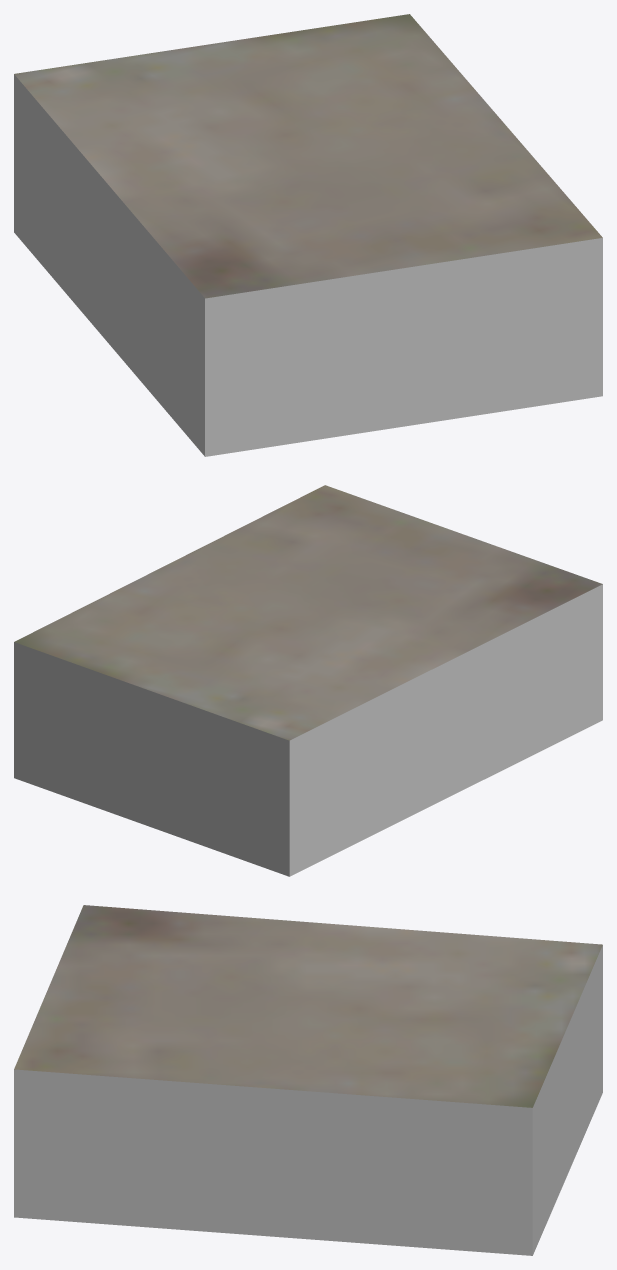
Rendered from DEBW_0010007TxhP.gltf.
3 views of the same model, one above another, from view 1: azimuth 30°, elevation 25°; view 2: azimuth 150°, elevation 25°; view 3: azimuth 270°, elevation 25° (orthographic). The views are drawn at different scales.
Parts seen in each view (by area): view 1: Z_UP; view 2: Z_UP; view 3: Z_UP.
Boxes of the visible parts, x1,y1,x2,y2 form: Z_UP: [14, 14, 602, 456]; Z_UP: [14, 485, 602, 876]; Z_UP: [14, 905, 602, 1255].
Size of the model in its own units: 7.59 by 2.58 by 9.31.
Materials: 2 (1 with a texture image).
